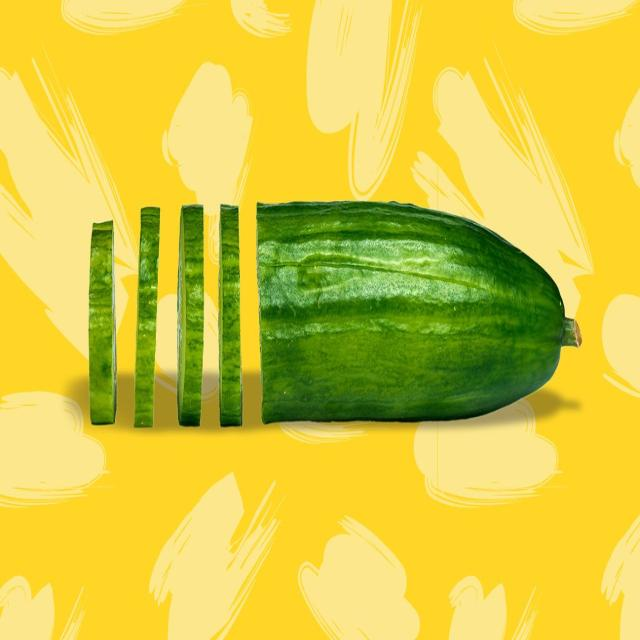Pickle: (258, 202, 565, 423), (178, 205, 204, 427), (134, 207, 160, 426), (89, 220, 116, 425), (219, 205, 242, 427)
